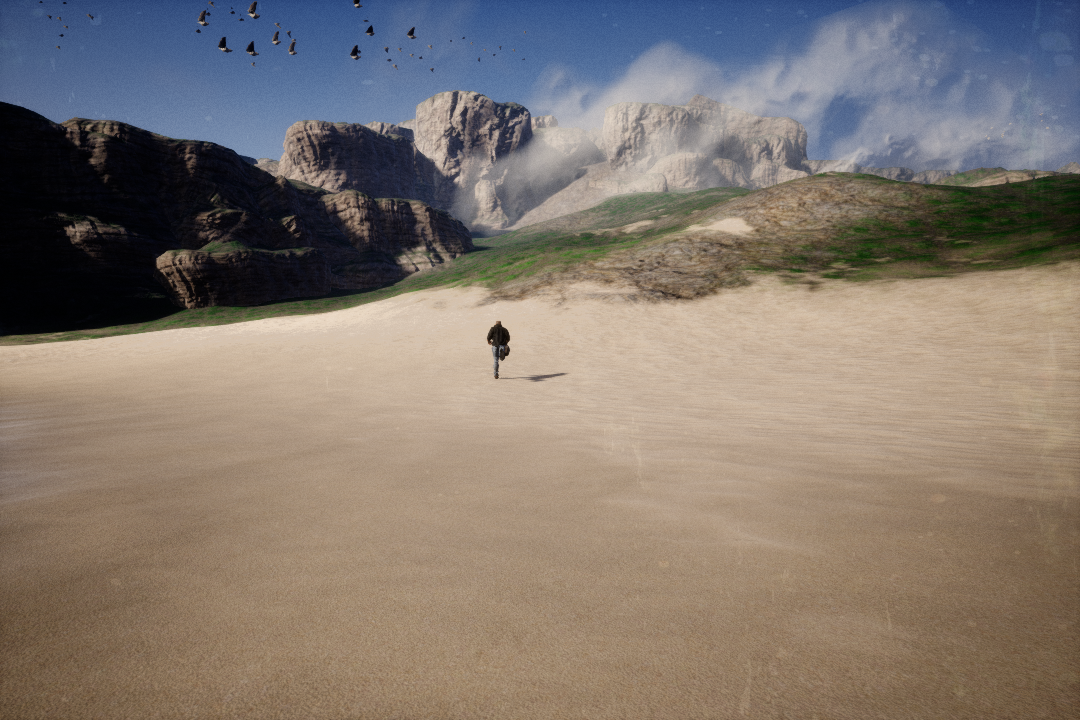person: (483, 318, 515, 383)
